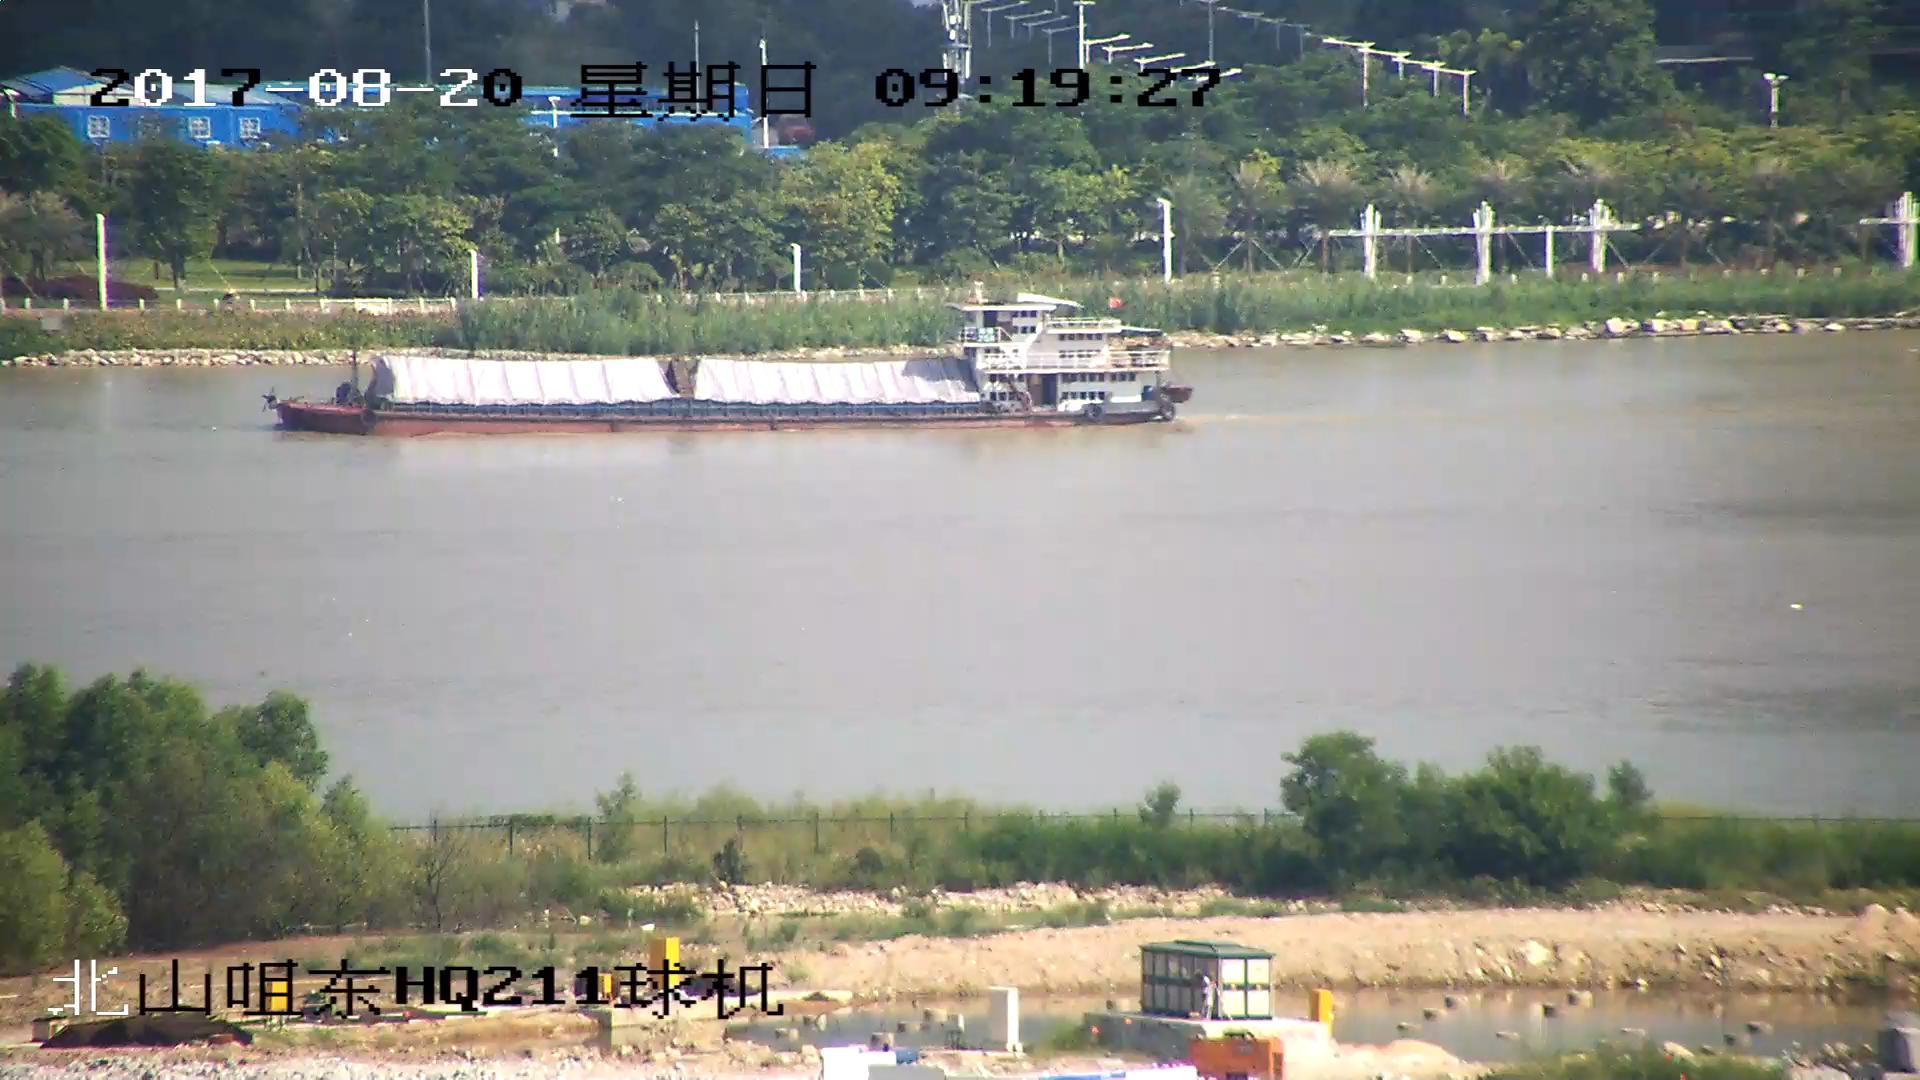Ship: (280, 295, 1184, 440)
